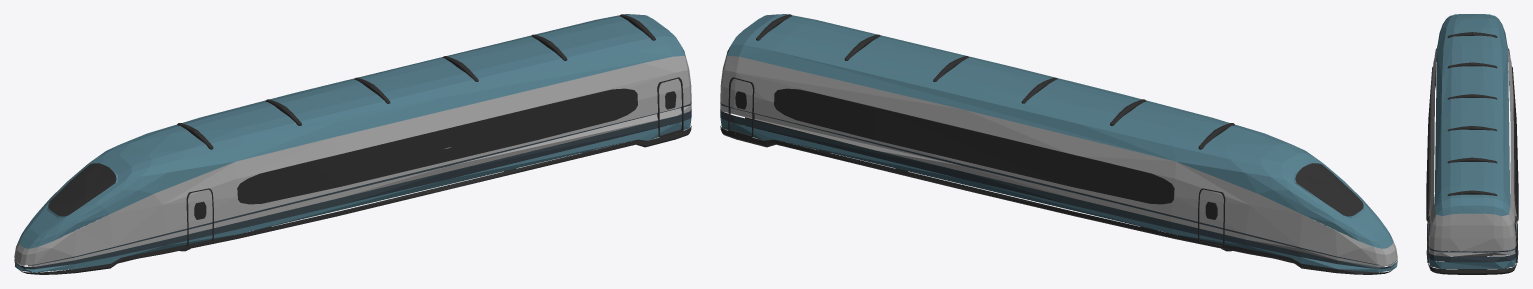
Rendered from hs_front.glb.
The picture shows the model from 3 angles, left to right: view 1: azimuth 30°, elevation 25°; view 2: azimuth 150°, elevation 25°; view 3: azimuth 270°, elevation 25°; orthographic projection. The views are drawn at different scales.
Visible parts, largest first — view 1: HighspeedTrain_Front; view 2: HighspeedTrain_Front; view 3: HighspeedTrain_Front.
Boxes of the visible parts, left/top/right/bottom form: HighspeedTrain_Front: left=14, top=14, right=691, bottom=274; HighspeedTrain_Front: left=720, top=14, right=1397, bottom=274; HighspeedTrain_Front: left=1426, top=14, right=1518, bottom=274.
Size of the model in its own units: 12.16 by 1.9 by 2.03.
